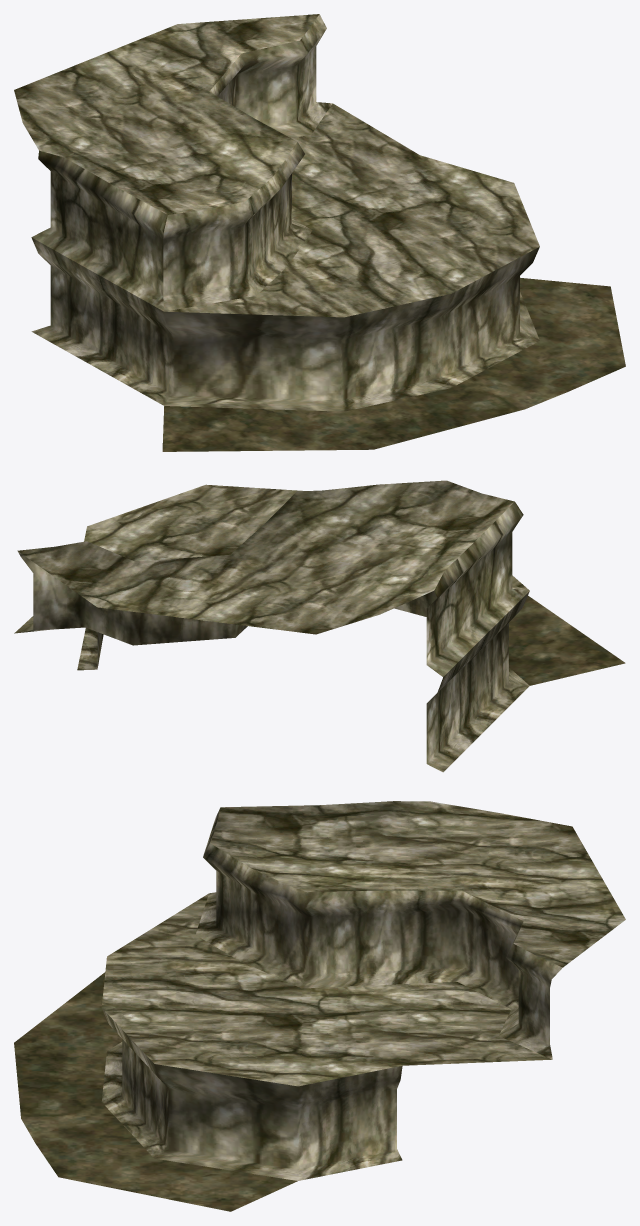
File: CB_NEWPLAYSURFACE_CB_PLAYSURFACE25.fbx
The picture shows the model from 3 angles, top to bottom: view 1: azimuth 30°, elevation 25°; view 2: azimuth 150°, elevation 25°; view 3: azimuth 270°, elevation 25°; orthographic projection.
Visible parts, largest first — view 1: CB_NEWPLAYSURFACE_CB_PLAYSURFACE25; view 2: CB_NEWPLAYSURFACE_CB_PLAYSURFACE25; view 3: CB_NEWPLAYSURFACE_CB_PLAYSURFACE25.
Boxes of the visible parts, x1=… form: CB_NEWPLAYSURFACE_CB_PLAYSURFACE25: x1=14, y1=14, x2=625, y2=451; CB_NEWPLAYSURFACE_CB_PLAYSURFACE25: x1=14, y1=480, x2=625, y2=772; CB_NEWPLAYSURFACE_CB_PLAYSURFACE25: x1=14, y1=801, x2=625, y2=1211.
Size of the model in its own units: 168432 by 58720 by 175885.
3 materials, 3 textured.
